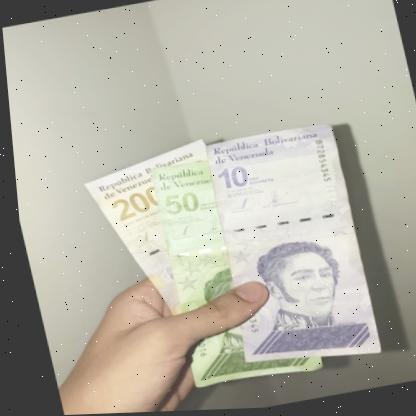fifty-front-vef: (140, 147, 317, 393)
ten-front-vef: (189, 120, 379, 380)
two_hundred-front-vef: (73, 138, 237, 326)
